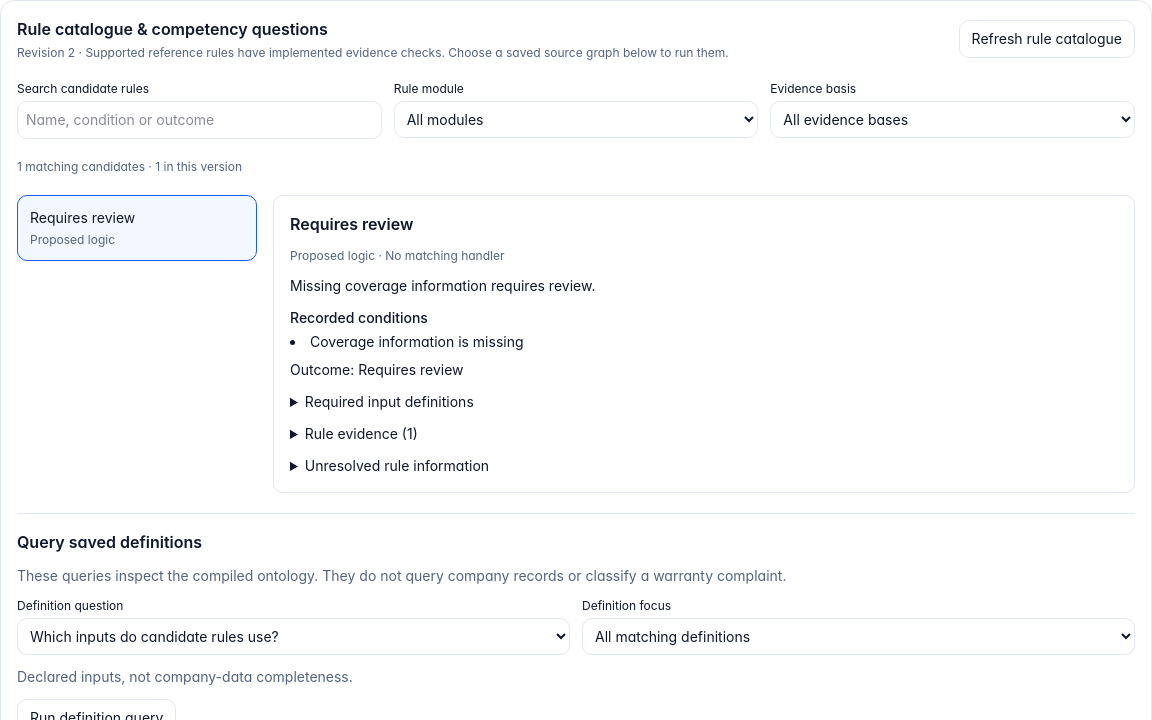
Scenario: shows candidate inputs, evidence and unresolved information
This screenshot has width=1152, height=720.
expect the text "Proposed logic · No matching handler" is shown: met, box [290,248,504,263]
Click the heading "Required input definitions". click: [389, 402]
box: [305,393,474,410]
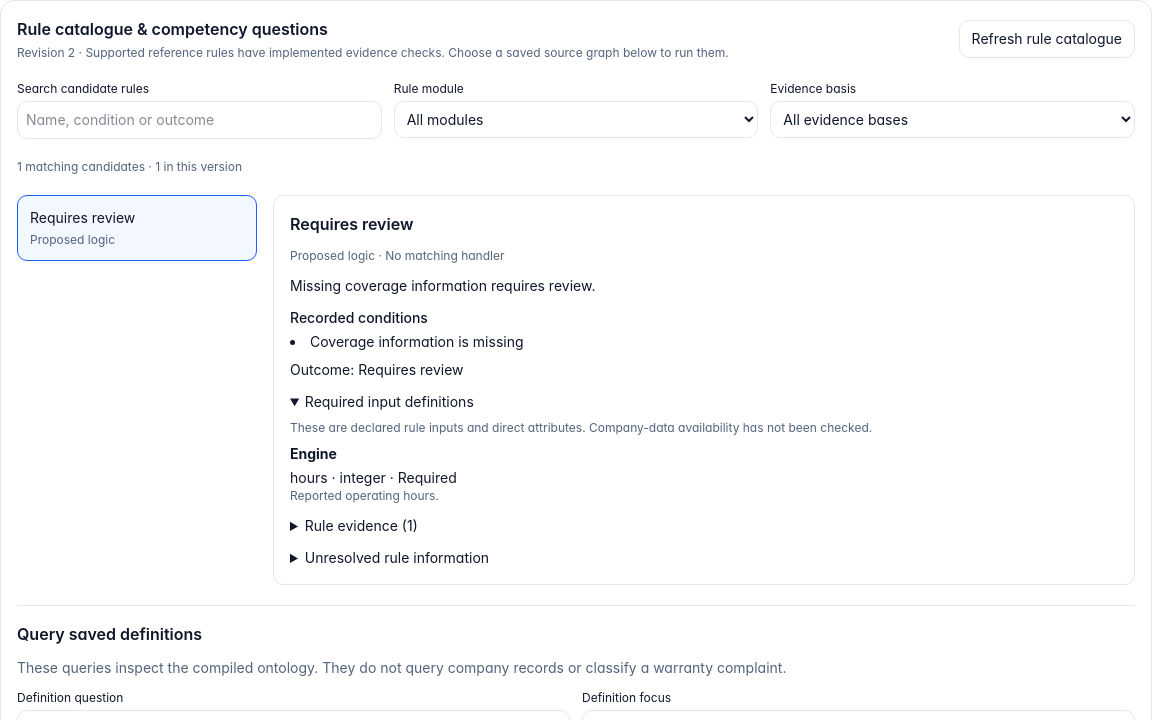
expect the text "Company-data availability has not been checked" is shown: met, box [290,420,872,435]
expect the list item "hours · integer · Required Reported operating hours." is shown: met, box [290,469,457,503]
Click the heading "Rule evidence (1)". click: [361, 526]
box: [305,517,418,534]
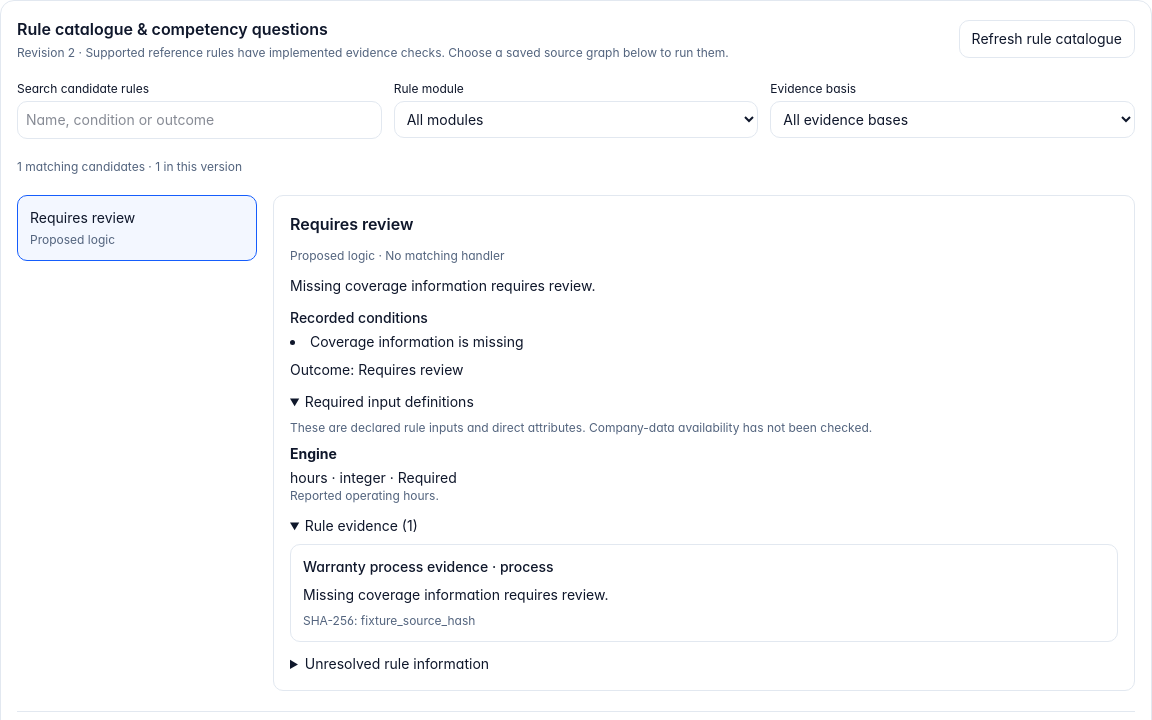
expect the text "Missing coverage information requires review." below "Warranty process evidence" is shown: met, box [303,586,608,603]
Click the heading "Unresolved rule information". click: [397, 664]
box: [305,655,489,672]
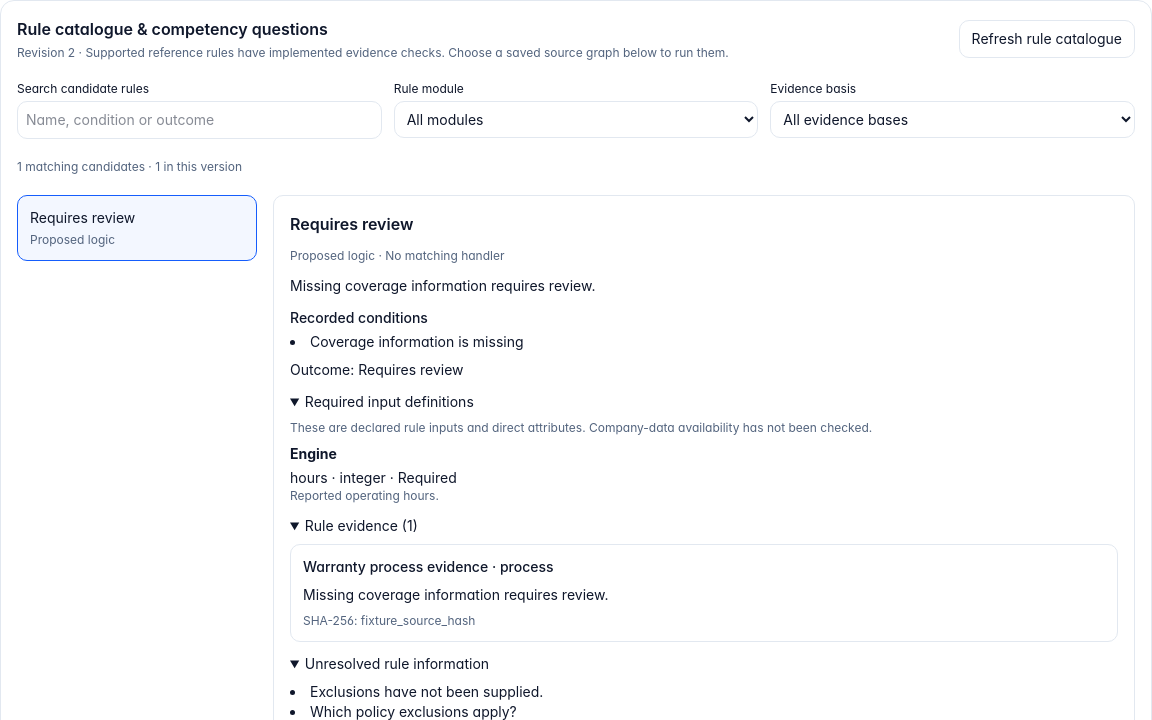
expect the list item "Exclusions have not been supplied." is shown: met, box [310,683,543,700]
Select "Policy statement (unverified)" in the dropdown labelled "Evidence basis". click: [953, 120]
box: [770,101,1135,138]
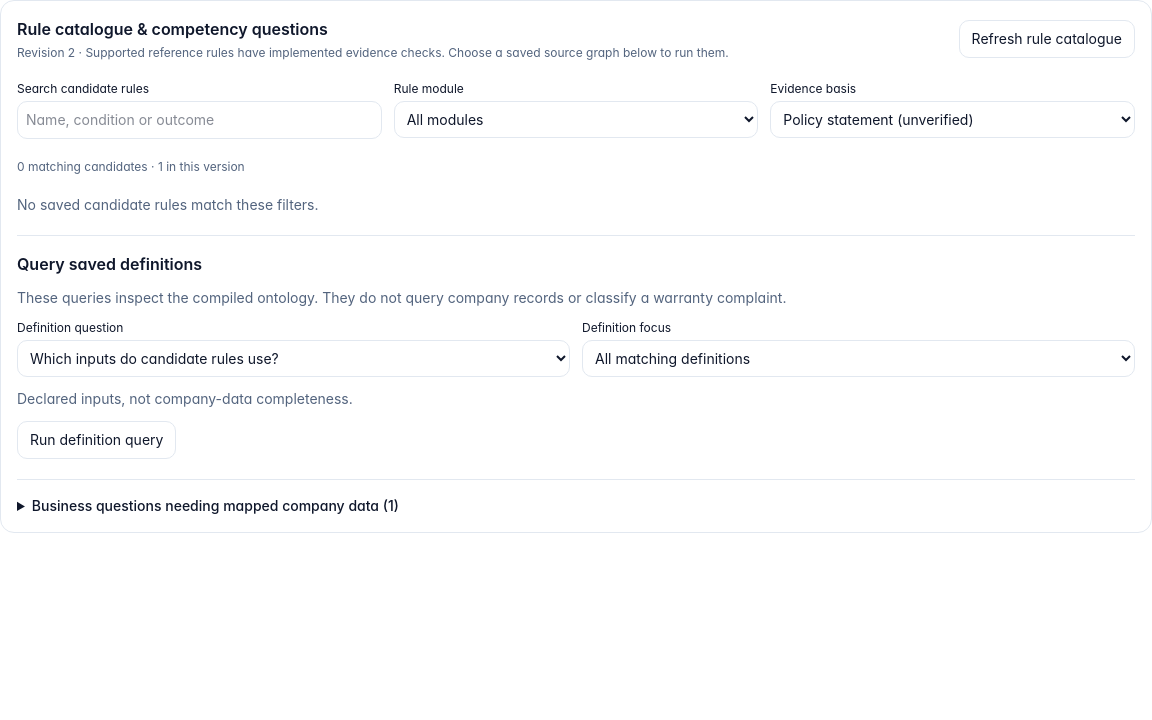
expect the text "No saved candidate rules match these filters." is shown: met, box [17,196,318,213]
